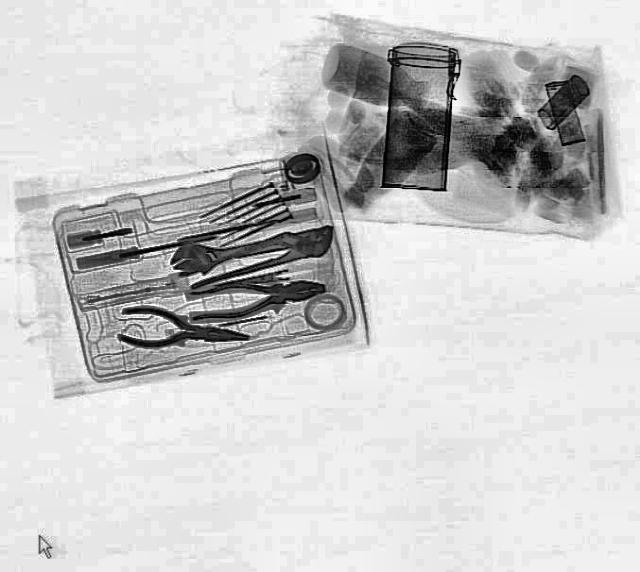Pliers: (184, 271, 326, 323), (118, 304, 250, 358)
Wrench: (163, 216, 327, 280)
